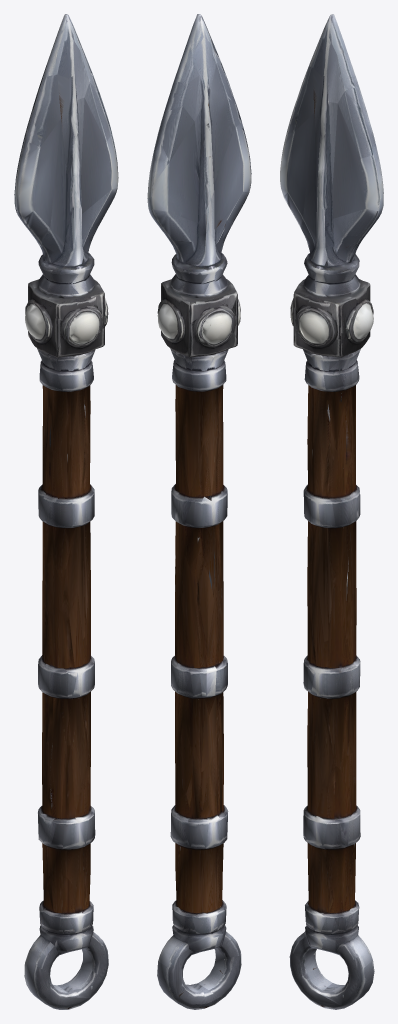
The model's file is ForgeSpear.fbx.
3 renders of one model, left to right at view 1: azimuth 30°, elevation 25°; view 2: azimuth 210°, elevation 25°; view 3: azimuth 330°, elevation 25°, orthographic.
Parts seen in each view (by area): view 1: Shaft, Head; view 2: Shaft, Head; view 3: Shaft, Head.
Part boxes in pixels (x1,y1,x2,y2): Shaft: (24, 348, 108, 1009); Head: (14, 14, 118, 358); Shaft: (157, 348, 241, 1009); Head: (147, 14, 251, 358); Shaft: (289, 349, 374, 1009); Head: (280, 14, 383, 358).
Bounding box in the file's own units: 0.8919 × 8.5 × 0.7008.
Materials: 1 (1 with a texture image).
